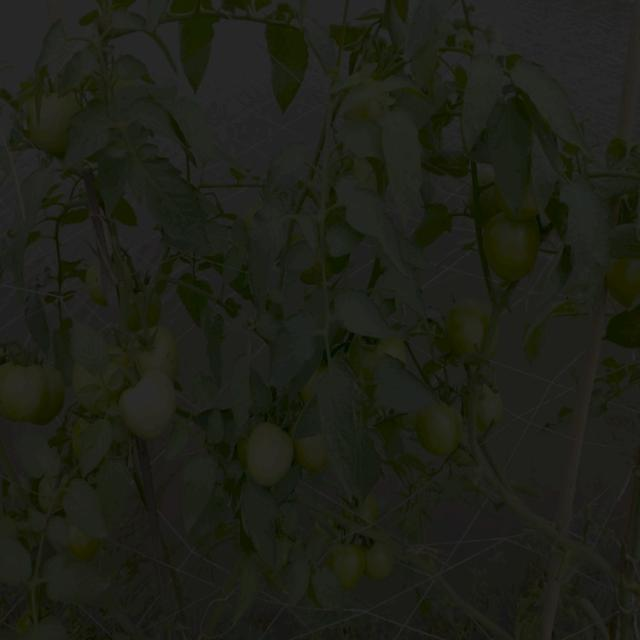tomato: (122, 371, 181, 442), (483, 212, 540, 278), (244, 425, 291, 492), (1, 352, 45, 423), (34, 90, 81, 153), (413, 407, 467, 457), (450, 297, 495, 349), (360, 534, 400, 588), (138, 324, 181, 371), (41, 361, 70, 423), (356, 334, 410, 364), (609, 262, 640, 314), (331, 533, 360, 586), (476, 380, 504, 432), (348, 95, 388, 128), (299, 440, 333, 474), (86, 262, 107, 304), (69, 532, 105, 556), (480, 168, 499, 212)
